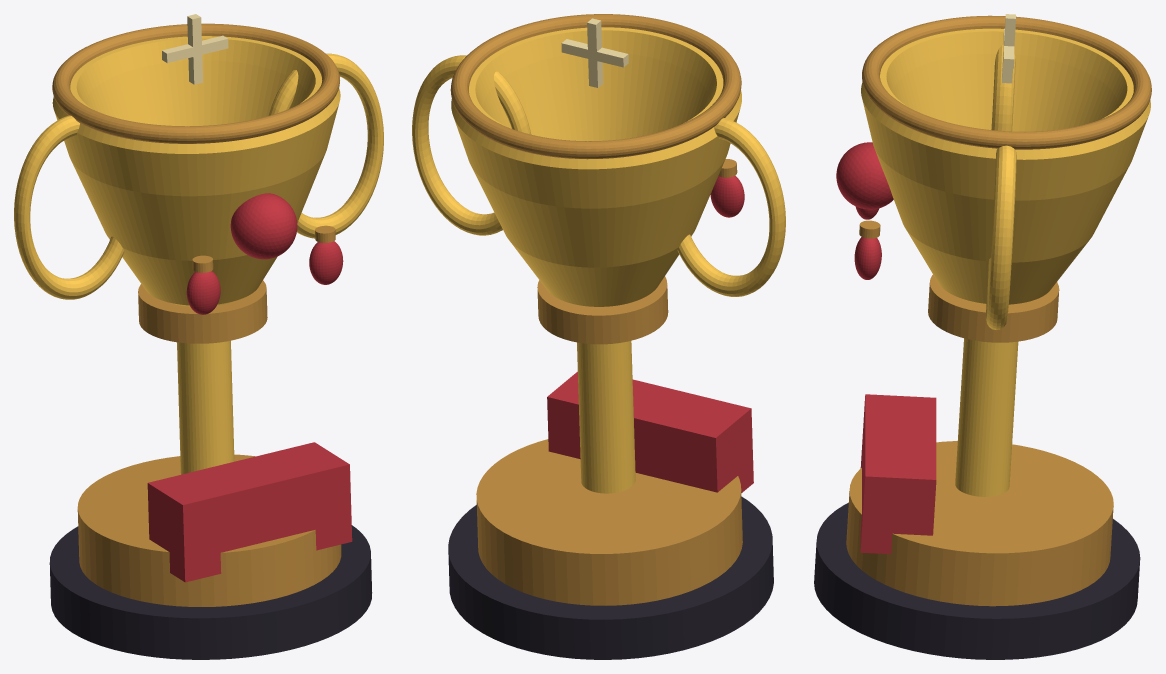
Rendered from trophy.glb.
3 views of the same model, side by side, from view 1: azimuth 30°, elevation 25°; view 2: azimuth 150°, elevation 25°; view 3: azimuth 270°, elevation 25° (orthographic).
Parts seen in each view (by area): view 1: cup_bowl, base, front_plaque, base_gold_trim, rim, stem, handle_-1, collar, handle_1, front_jewel, lantern_-0.055, lantern_0.055 (+2 smaller); view 2: cup_bowl, base_gold_trim, base, front_plaque, rim, stem, handle_-1, handle_1, collar, lantern_-0.055, sparkle_0, sparkle_1.5707963267948966; view 3: cup_bowl, base_gold_trim, base, front_plaque, rim, stem, collar, handle_1, front_jewel, handle_-1, lantern_0.055, sparkle_0.
Boxes of the visible parts, x1=… form: cup_bowl: x1=52, y1=36, x2=340, y2=306; base: x1=49, y1=525, x2=372, y2=659; front_plaque: x1=147, y1=442, x2=352, y2=582; base_gold_trim: x1=77, y1=454, x2=341, y2=606; rim: x1=52, y1=23, x2=339, y2=143; stem: x1=177, y1=340, x2=234, y2=474; handle_-1: x1=14, y1=115, x2=124, y2=299; collar: x1=138, y1=280, x2=267, y2=343; handle_1: x1=268, y1=53, x2=383, y2=238; front_jewel: x1=230, y1=193, x2=297, y2=259; lantern_-0.055: x1=186, y1=271, x2=220, y2=314; lantern_0.055: x1=309, y1=241, x2=343, y2=284; cup_bowl: x1=451, y1=27, x2=741, y2=306; base_gold_trim: x1=476, y1=439, x2=742, y2=605; base: x1=448, y1=496, x2=773, y2=659; front_plaque: x1=547, y1=372, x2=753, y2=492; rim: x1=450, y1=14, x2=741, y2=159; stem: x1=577, y1=341, x2=635, y2=493; handle_-1: x1=677, y1=118, x2=785, y2=296; handle_1: x1=412, y1=55, x2=531, y2=235; collar: x1=537, y1=276, x2=668, y2=344; lantern_-0.055: x1=710, y1=175, x2=744, y2=217; sparkle_0: x1=587, y1=18, x2=603, y2=87; sparkle_1.5707963267948966: x1=561, y1=39, x2=628, y2=67; cup_bowl: x1=861, y1=28, x2=1150, y2=304; base_gold_trim: x1=846, y1=441, x2=1113, y2=606; base: x1=814, y1=503, x2=1140, y2=659; front_plaque: x1=860, y1=394, x2=936, y2=554; rim: x1=862, y1=15, x2=1151, y2=149; stem: x1=955, y1=338, x2=1018, y2=496; collar: x1=928, y1=275, x2=1059, y2=342; handle_1: x1=986, y1=145, x2=1016, y2=329; front_jewel: x1=836, y1=142, x2=893, y2=209; handle_-1: x1=991, y1=44, x2=1015, y2=131; lantern_0.055: x1=854, y1=237, x2=881, y2=279; sparkle_0: x1=1002, y1=14, x2=1015, y2=83.
Bounding box in the file's own units: 0.3291 × 0.4959 × 0.2606.
